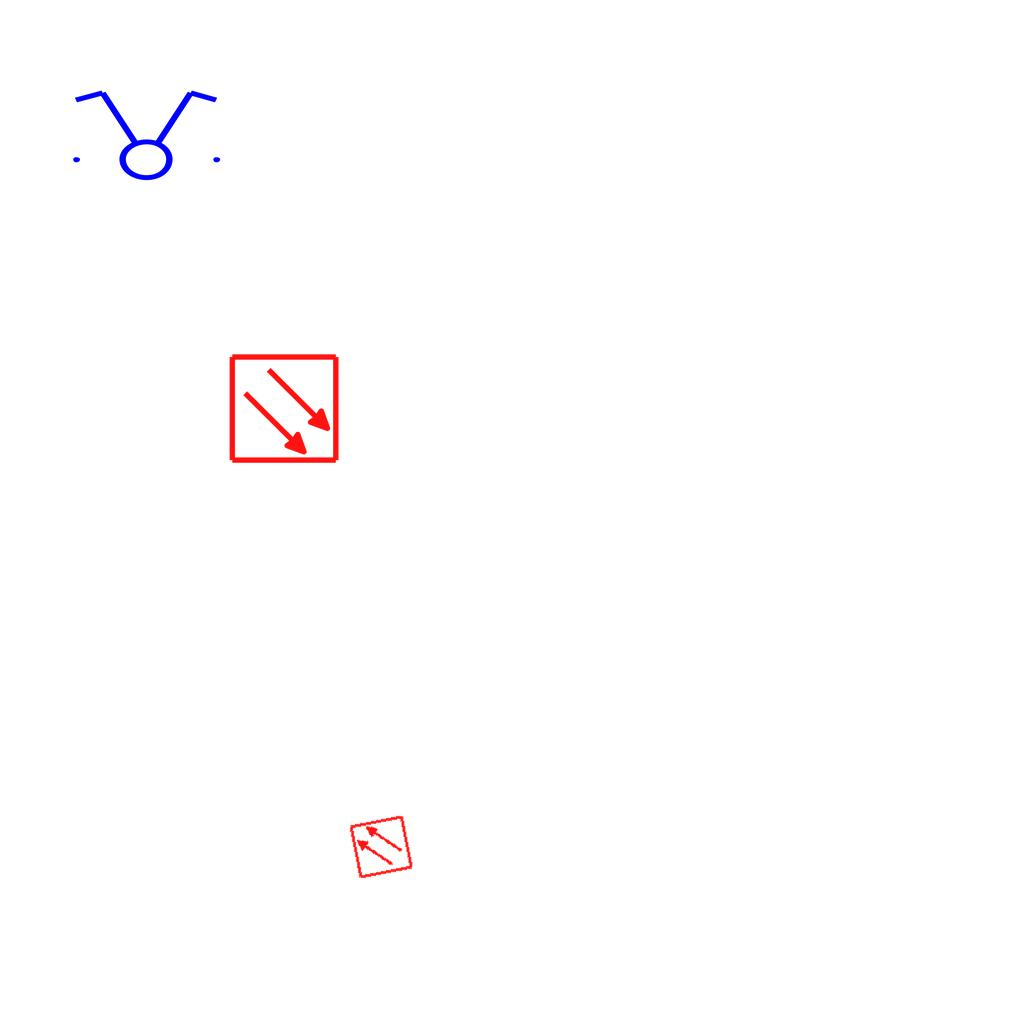RMO_Rauchmelder_optischer: (228, 352, 341, 465), (348, 814, 414, 880)
Serienschalter: (61, 86, 229, 182)
